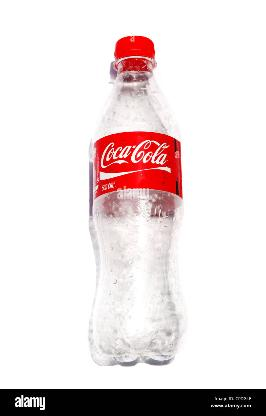Plastic Bottle: (84, 29, 188, 366)
